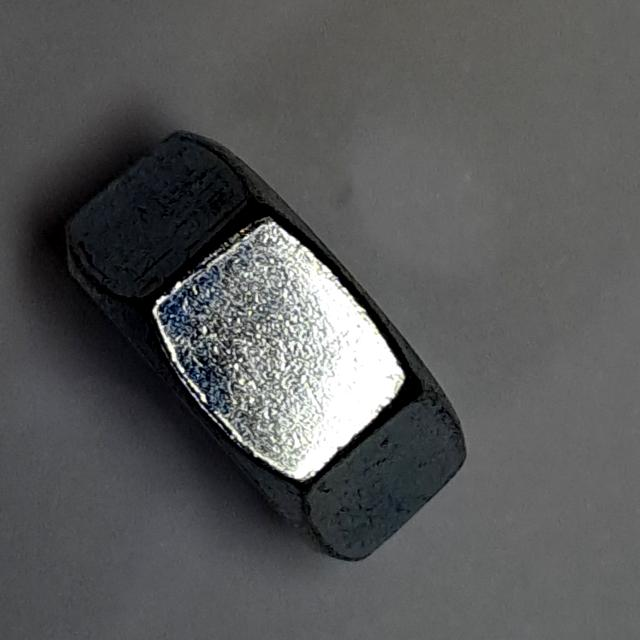Side_Excellent: (52, 123, 485, 573)
